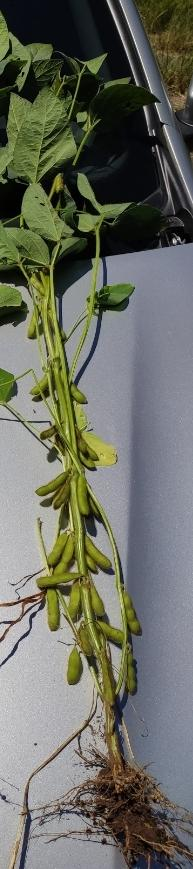soja: (121, 587, 153, 641), (32, 463, 79, 499), (42, 307, 80, 350), (60, 369, 100, 404), (57, 648, 87, 692), (34, 594, 67, 634), (84, 535, 119, 571), (40, 530, 70, 570), (30, 362, 55, 404), (55, 474, 78, 516), (54, 540, 79, 578), (95, 622, 124, 653), (65, 588, 88, 627), (89, 586, 115, 620), (72, 474, 93, 516), (32, 573, 86, 589), (34, 416, 64, 444), (126, 652, 145, 695), (74, 548, 99, 576), (25, 304, 42, 345), (84, 438, 108, 463), (25, 275, 50, 299), (87, 495, 107, 523), (76, 454, 103, 473), (51, 175, 69, 198)
